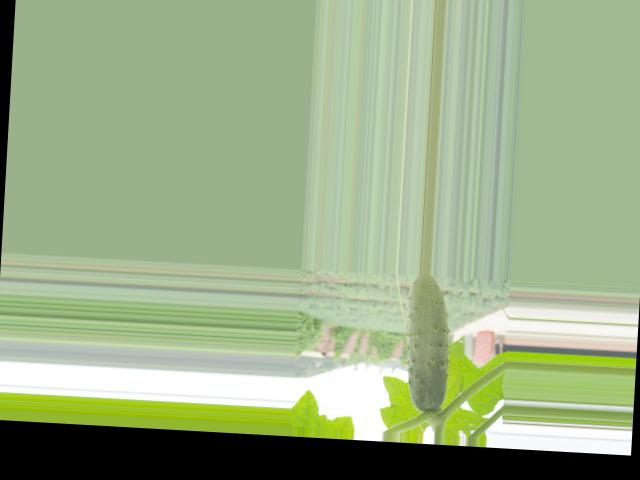cucumber: (401, 273, 453, 412)
